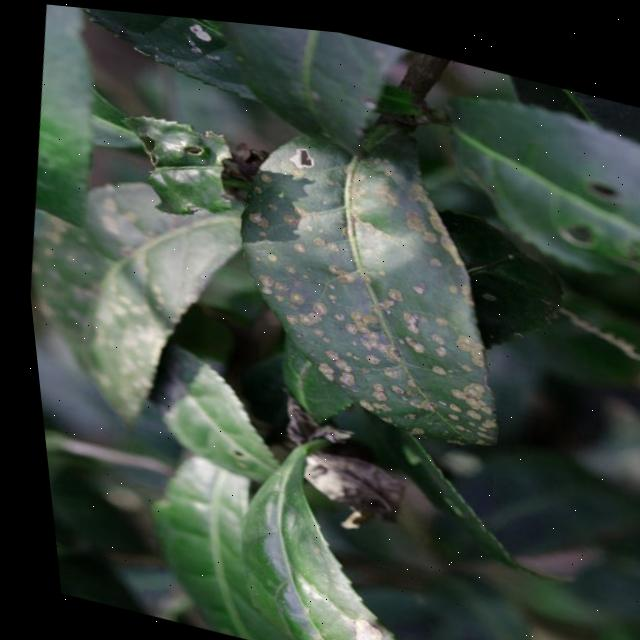Tea algae leaf spot: (235, 149, 493, 428)
